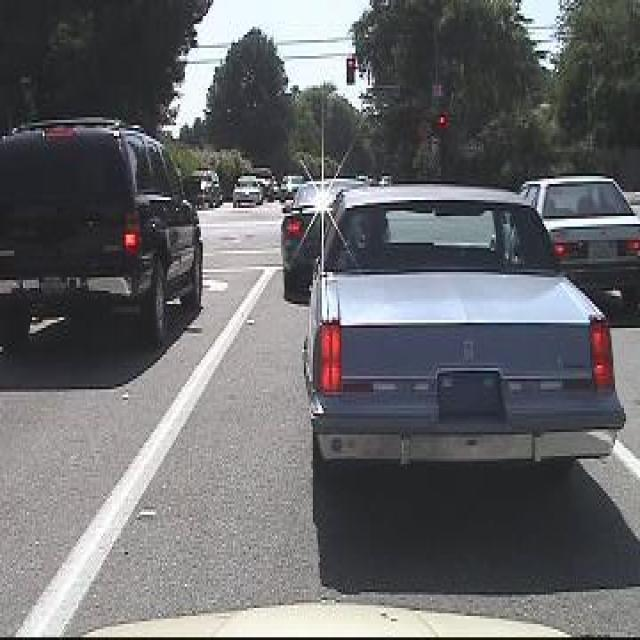car_back: (302, 169, 628, 527), (0, 102, 210, 374), (512, 157, 640, 307)
car_front: (232, 168, 266, 212)
